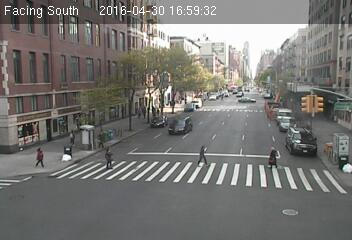neg: (327, 128, 351, 161), (189, 206, 210, 234), (104, 14, 125, 42), (9, 19, 29, 46), (94, 66, 114, 93), (48, 15, 68, 41), (293, 21, 311, 46), (138, 141, 156, 165), (162, 27, 179, 49), (288, 80, 304, 100), (155, 63, 170, 84), (40, 178, 55, 198), (207, 85, 222, 105), (204, 21, 219, 41), (76, 197, 90, 216), (256, 181, 270, 199), (234, 128, 247, 146), (252, 66, 265, 84), (51, 73, 63, 90), (233, 94, 245, 110), (117, 171, 129, 187)
pos: (261, 139, 286, 172), (26, 140, 50, 172), (189, 139, 212, 170), (97, 144, 120, 174), (62, 124, 80, 148), (93, 129, 108, 150), (141, 101, 154, 118), (133, 104, 144, 120), (151, 102, 162, 117)
